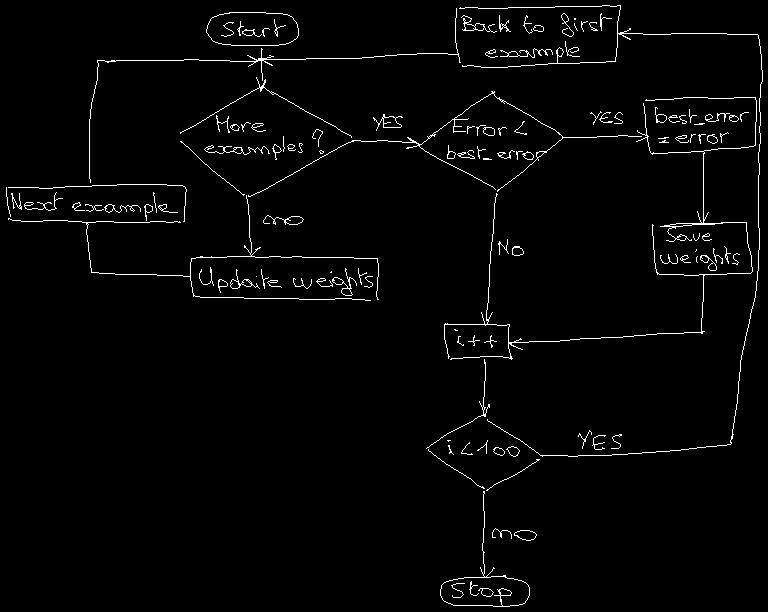arrow: (541, 28, 762, 456), (89, 55, 260, 182), (509, 275, 704, 349), (86, 222, 189, 276), (258, 53, 457, 65), (481, 193, 497, 325), (480, 491, 494, 577), (244, 195, 260, 255), (562, 130, 648, 141), (697, 152, 708, 224), (352, 137, 419, 148), (479, 359, 489, 416), (256, 48, 265, 91)
decision: (180, 86, 353, 196), (419, 91, 562, 191), (426, 414, 542, 490)
process: (455, 5, 620, 67), (190, 256, 378, 300), (6, 184, 186, 222), (643, 97, 756, 154), (652, 222, 752, 275), (444, 323, 512, 359)
terminator: (206, 12, 298, 45), (440, 575, 529, 606)
text: (461, 13, 611, 62), (204, 115, 323, 159), (199, 267, 372, 295), (11, 192, 177, 220), (447, 118, 546, 160), (660, 227, 739, 270), (655, 107, 748, 143), (451, 581, 511, 606), (447, 440, 519, 456), (221, 19, 285, 36), (578, 430, 621, 449), (454, 329, 496, 347), (492, 528, 536, 540), (373, 114, 402, 130), (590, 111, 622, 124), (498, 239, 523, 255), (263, 215, 303, 224)
